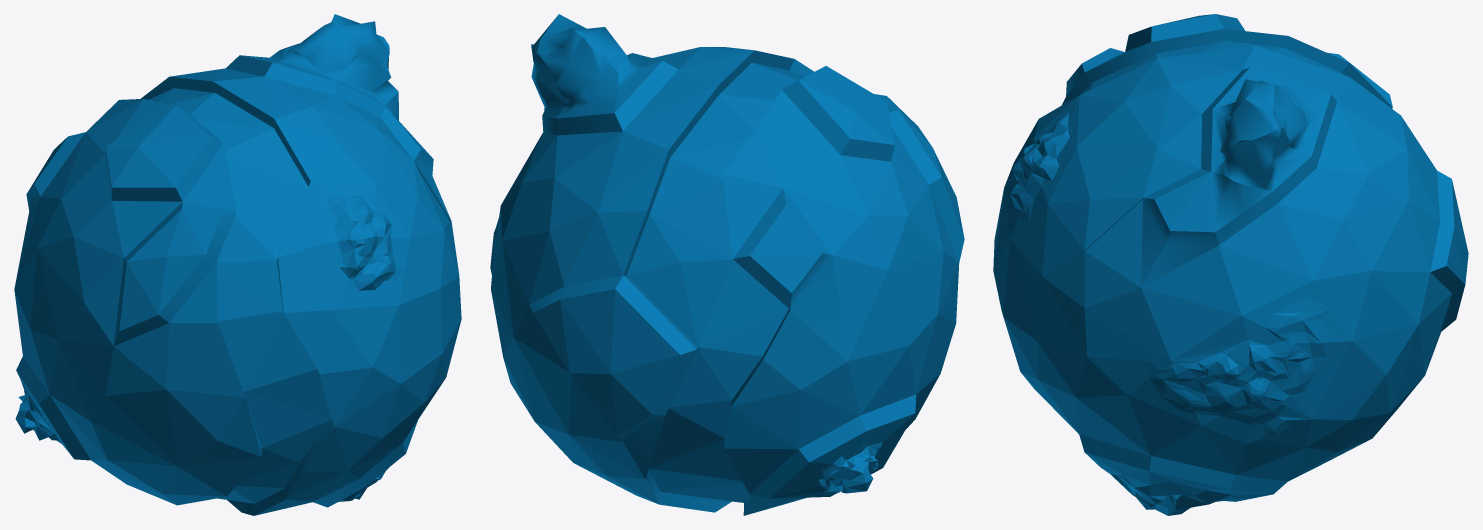
File: planeta.fbx
The picture shows the model from 3 angles, left to right: view 1: azimuth 30°, elevation 25°; view 2: azimuth 150°, elevation 25°; view 3: azimuth 270°, elevation 25°; orthographic projection. The views are drawn at different scales.
Parts seen in each view (by area): view 1: planeta; view 2: planeta; view 3: planeta.
Part boxes in pixels (bbox=[...]): planeta: bbox=[14, 14, 461, 515]; planeta: bbox=[490, 14, 964, 515]; planeta: bbox=[993, 14, 1468, 515].
Bounding box in the file's own units: 17.01 × 17.99 × 17.29.
